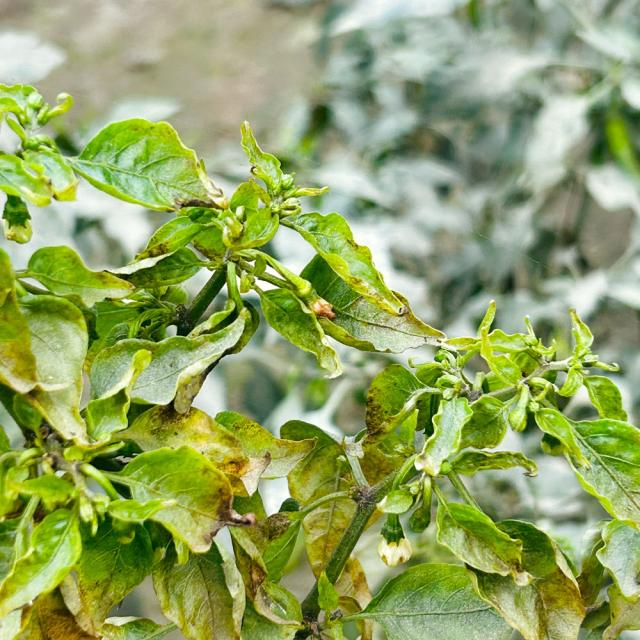Chilli_Leaf_Curl: (1, 83, 638, 638), (88, 301, 252, 411), (65, 116, 223, 214), (101, 444, 236, 558)
